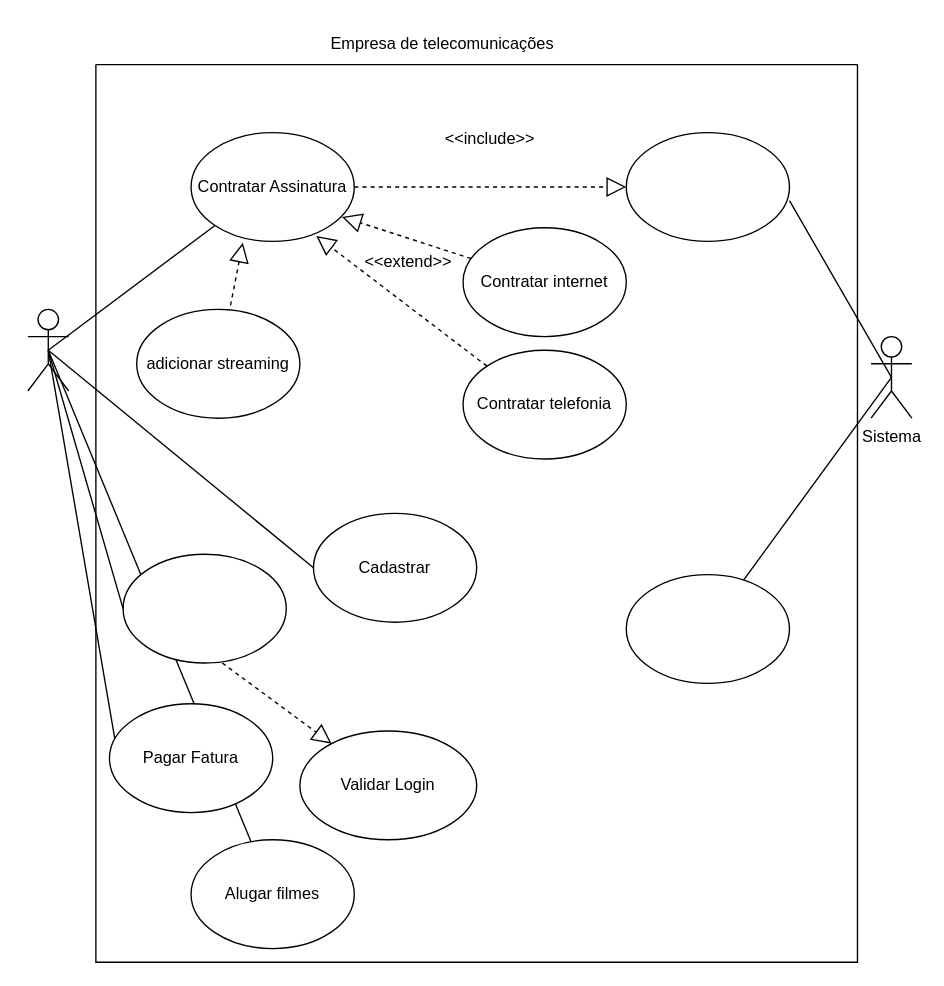
Image size: 944x986. Some labels were removed from this diagram. The shapes that lost their labels are listed below. From the top down, each one's box as (x1, y1, x2, y2) in pixels, then its label:
(625, 131, 789, 241): Gerenciar serviços
(27, 308, 69, 391): Cliente
(122, 553, 286, 663): Efetuar login
(625, 573, 789, 683): Calcular desconto
